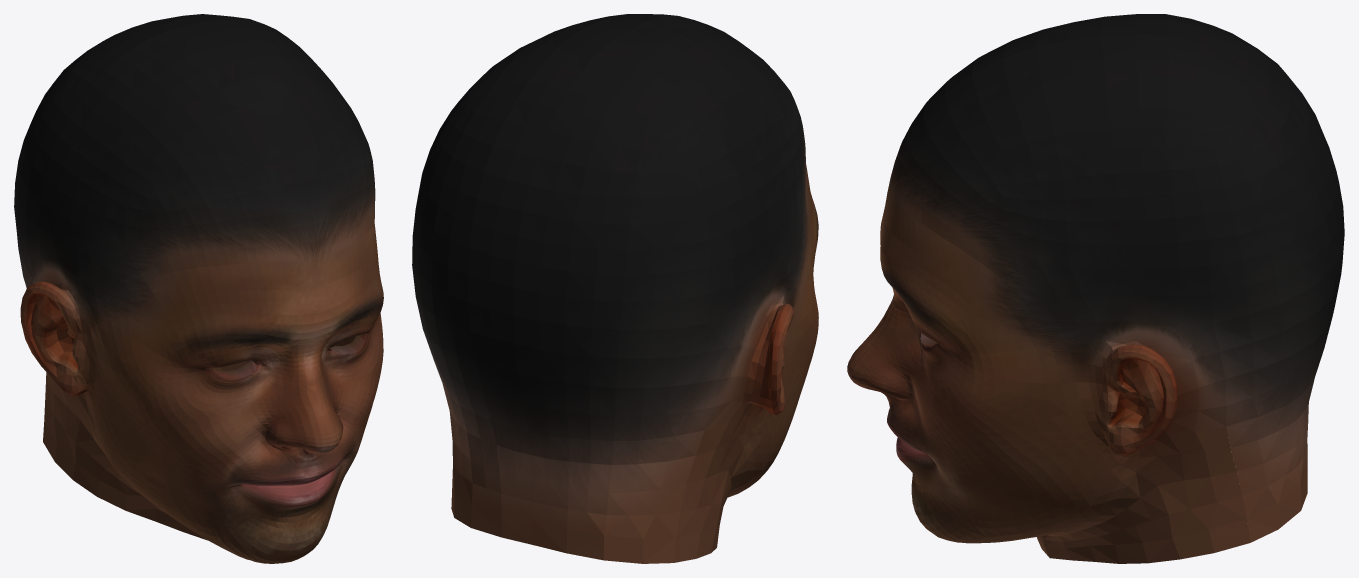
The model's file is MeInGame.obj.
The picture shows the model from 3 angles, left to right: view 1: azimuth 30°, elevation 25°; view 2: azimuth 150°, elevation 25°; view 3: azimuth 270°, elevation 25°; orthographic projection. The views are drawn at different scales.
Size of the model in its own units: 13.72 by 18.94 by 16.49.
